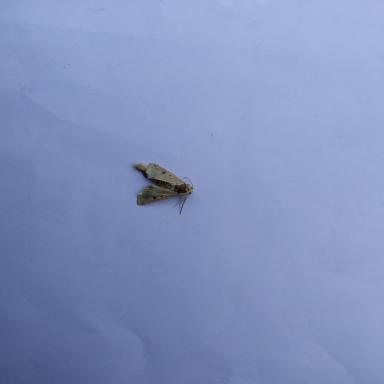abw: (128, 157, 200, 217)
